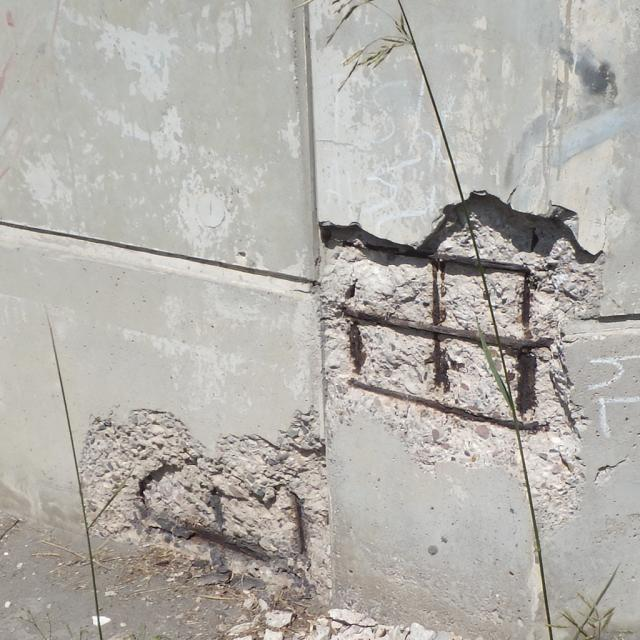D0w0: (318, 192, 601, 528), (82, 406, 329, 605)
